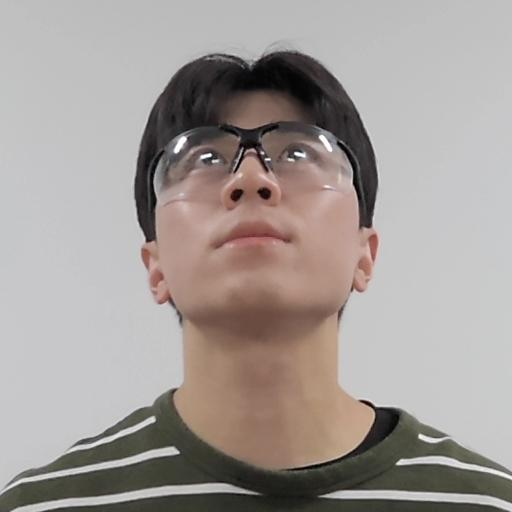glasses: (136, 41, 387, 349)
